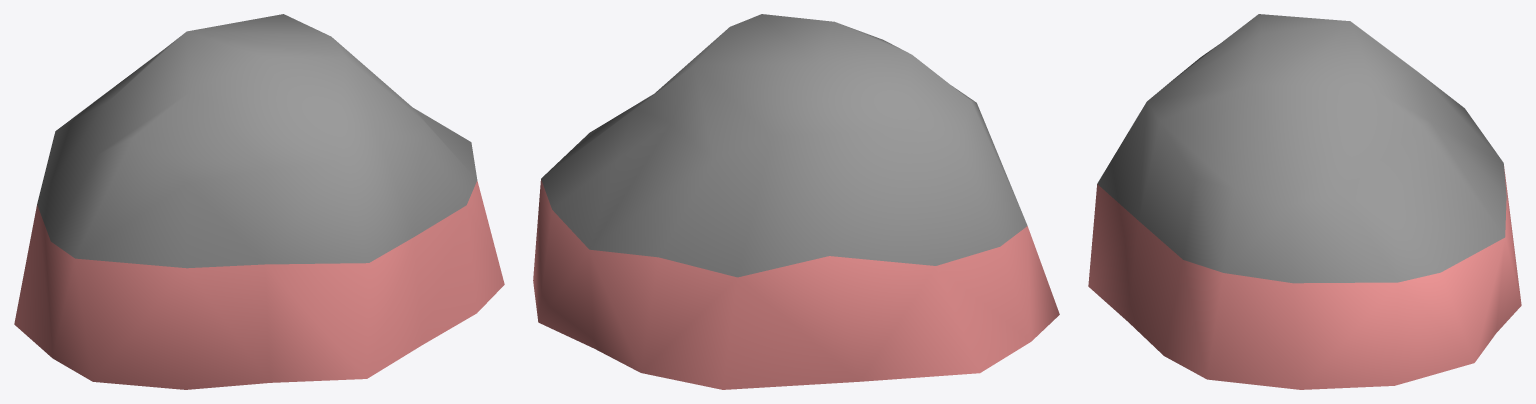
The model's file is stone_02.gltf.
3 views of the same model, side by side, from view 1: azimuth 30°, elevation 25°; view 2: azimuth 150°, elevation 25°; view 3: azimuth 270°, elevation 25° (orthographic). The views are drawn at different scales.
Parts seen in each view (by area): view 1: stone_02; view 2: stone_02; view 3: stone_02.
Boxes of the visible parts, x1=… form: stone_02: x1=14, y1=14, x2=504, y2=389; stone_02: x1=533, y1=14, x2=1059, y2=389; stone_02: x1=1088, y1=14, x2=1521, y2=389.
Size of the model in its own units: 0.8311 by 0.4699 by 0.7478.
